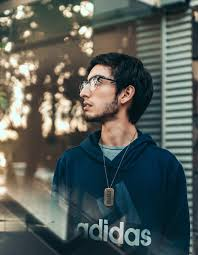middle_eastern_male: (81, 65, 127, 129)
